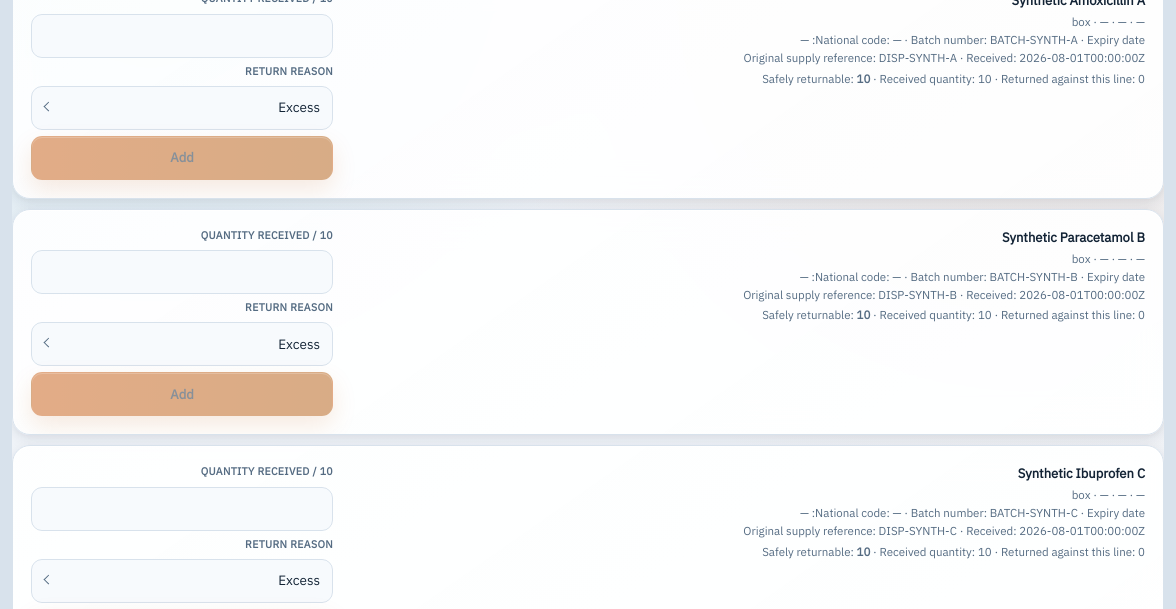
OutletReturnProvenancePicker · per-candidate field identity › keeps every label.control inside its own candidate card
Select "Other" in the 1st dropdown labelled "Return reason". click: (182, 108)
box: [31, 86, 333, 130]
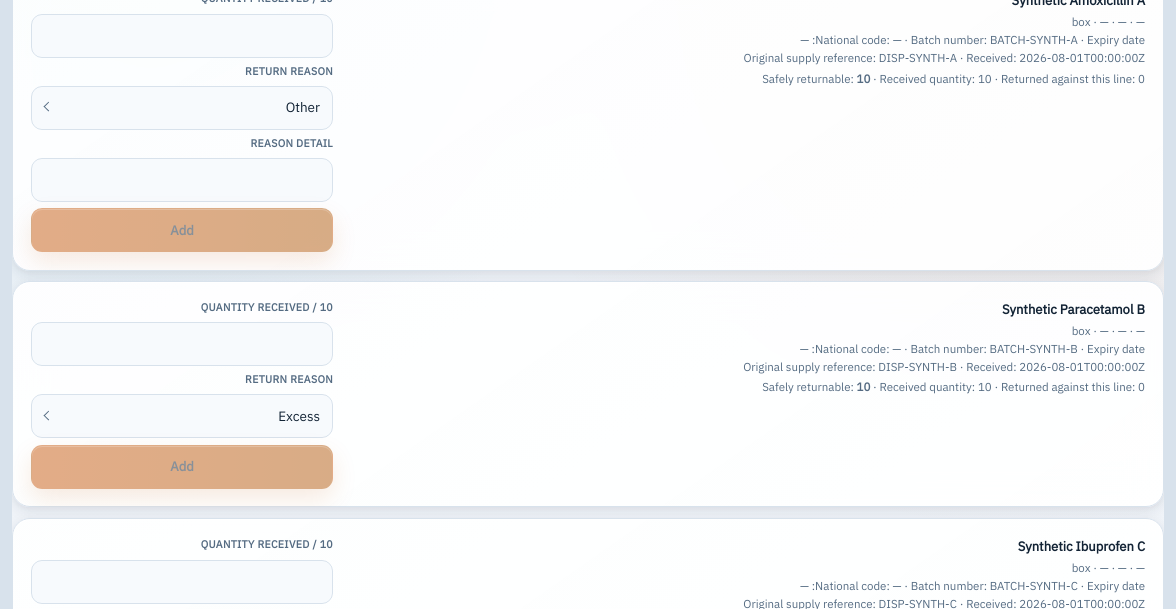
Select "Other" in the 2nd dropdown labelled "Return reason". click: (182, 417)
box: [31, 395, 333, 439]
(page scrolled)
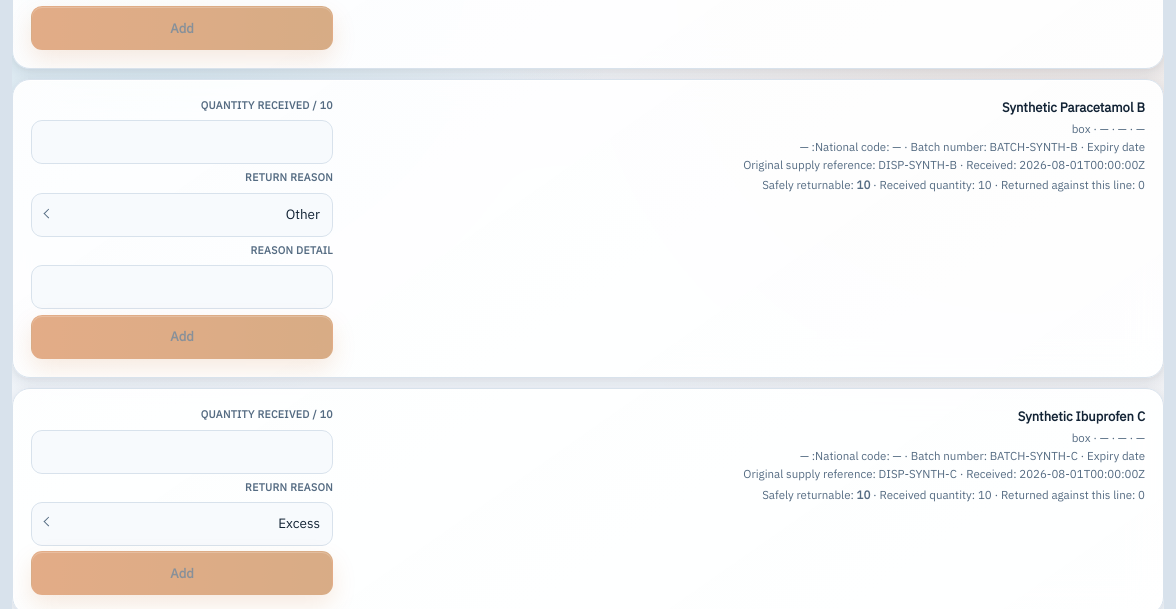
Select "Other" in the 3rd dropdown labelled "Return reason". click: (182, 523)
box: [31, 501, 333, 545]
(page scrolled)
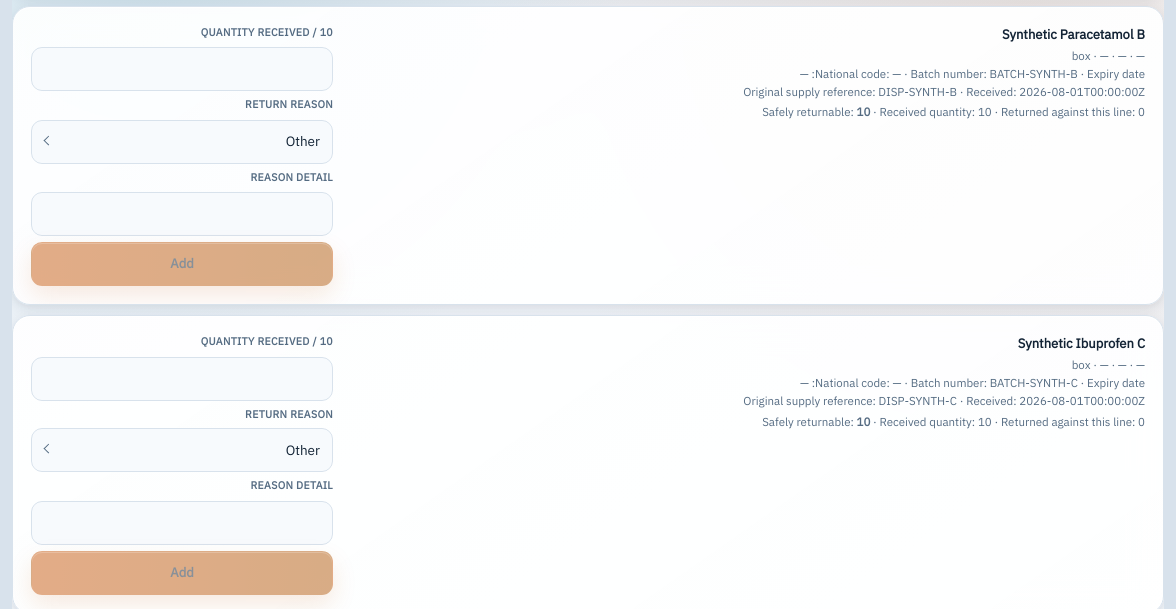
Expected: the field labelled "Quantity received / 10" in the row of "DISP-SYNTH-B" is shown, [31, 47, 333, 91]
Expected: the 2nd field labelled "Reason detail" is shown, [31, 192, 333, 236]
Expected: the 3rd field labelled "Reason detail" is shown, [31, 501, 333, 545]
